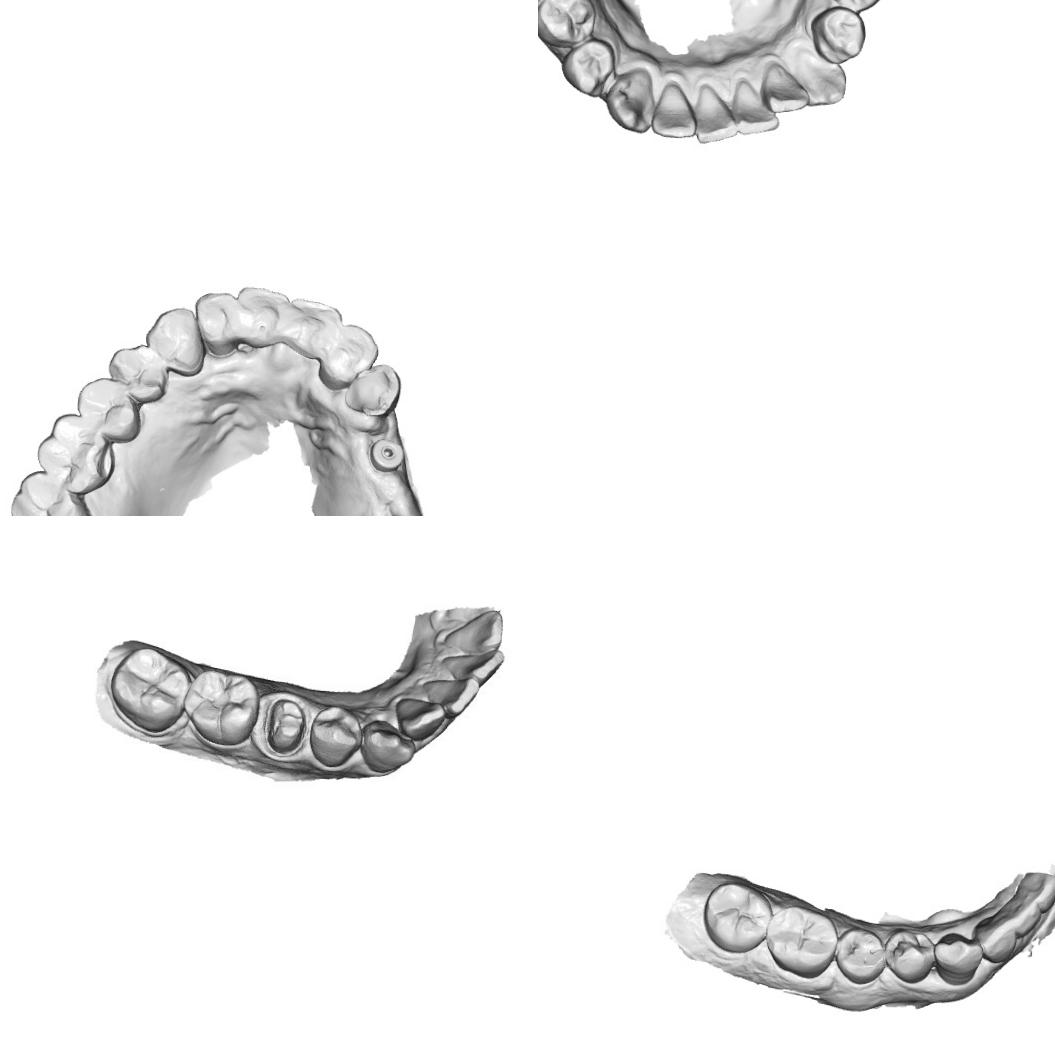canine: (143, 306, 208, 380), (791, 44, 849, 109), (344, 362, 402, 420), (931, 928, 985, 990), (604, 69, 652, 136), (360, 720, 415, 778)
crown: (258, 690, 311, 761)
implant: (366, 436, 407, 476)
incisor: (280, 295, 346, 362), (320, 318, 381, 389), (232, 281, 290, 353), (192, 288, 240, 363), (757, 62, 815, 117), (730, 76, 780, 138), (650, 80, 698, 142), (693, 84, 740, 146), (972, 913, 1024, 966), (447, 609, 500, 654), (1000, 890, 1044, 944), (445, 648, 502, 686), (398, 694, 442, 738), (1012, 871, 1055, 915), (427, 678, 474, 713)
molar: (33, 411, 114, 498), (113, 645, 185, 726), (763, 906, 841, 980), (700, 880, 770, 956), (184, 669, 252, 743), (7, 471, 97, 516)
premolar: (74, 374, 143, 444), (105, 341, 170, 407), (560, 35, 622, 100), (807, 4, 870, 67), (833, 924, 889, 986), (882, 926, 936, 986), (309, 707, 361, 768), (538, 0, 600, 50), (826, 0, 889, 14)
